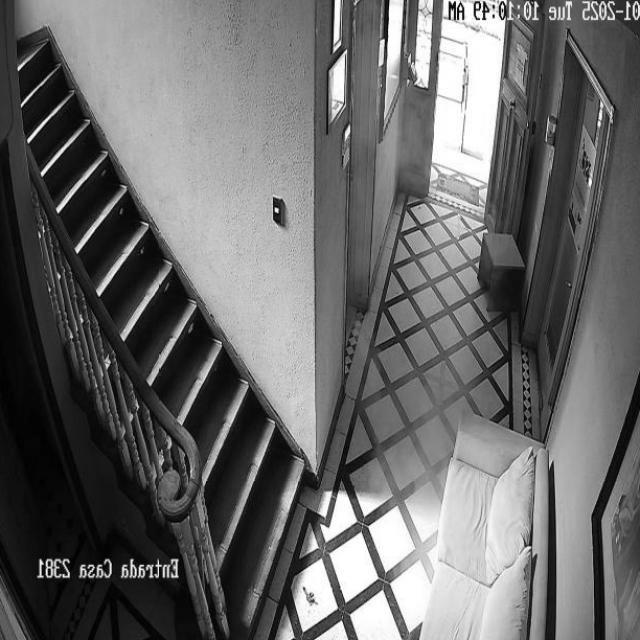fire: (346, 0, 513, 607)
